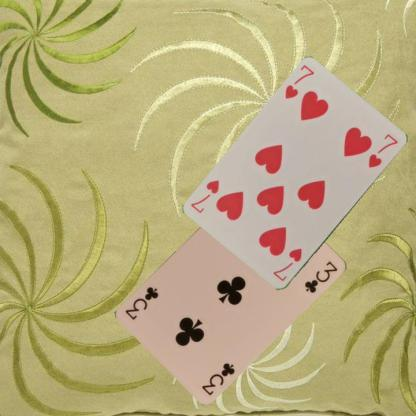3c: (198, 359, 236, 397)
7h: (270, 246, 304, 284), (282, 62, 315, 100)
